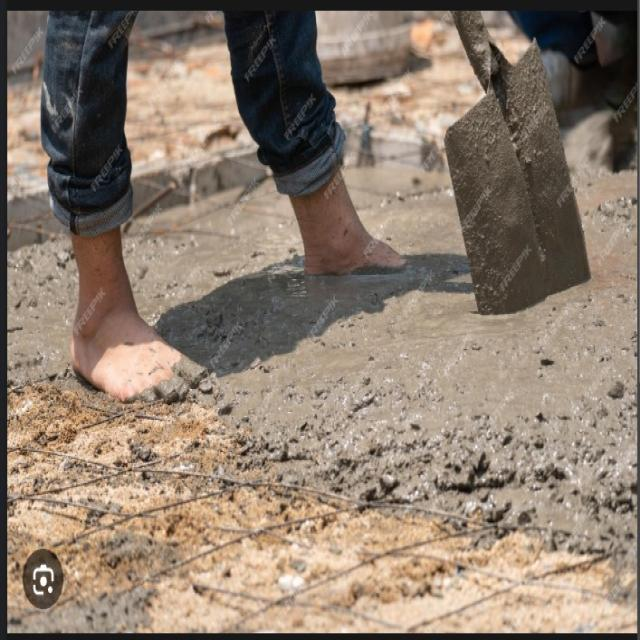Glasses: (272, 151, 467, 354), (69, 250, 220, 453)
